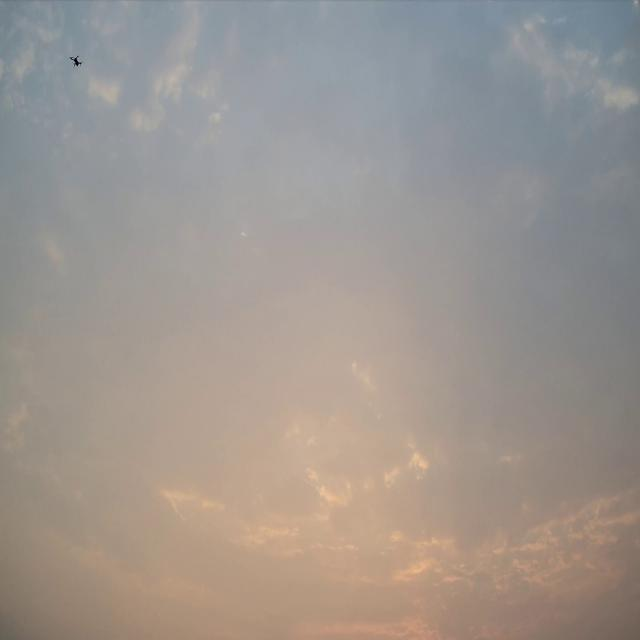UAV: (69, 55, 83, 67)
